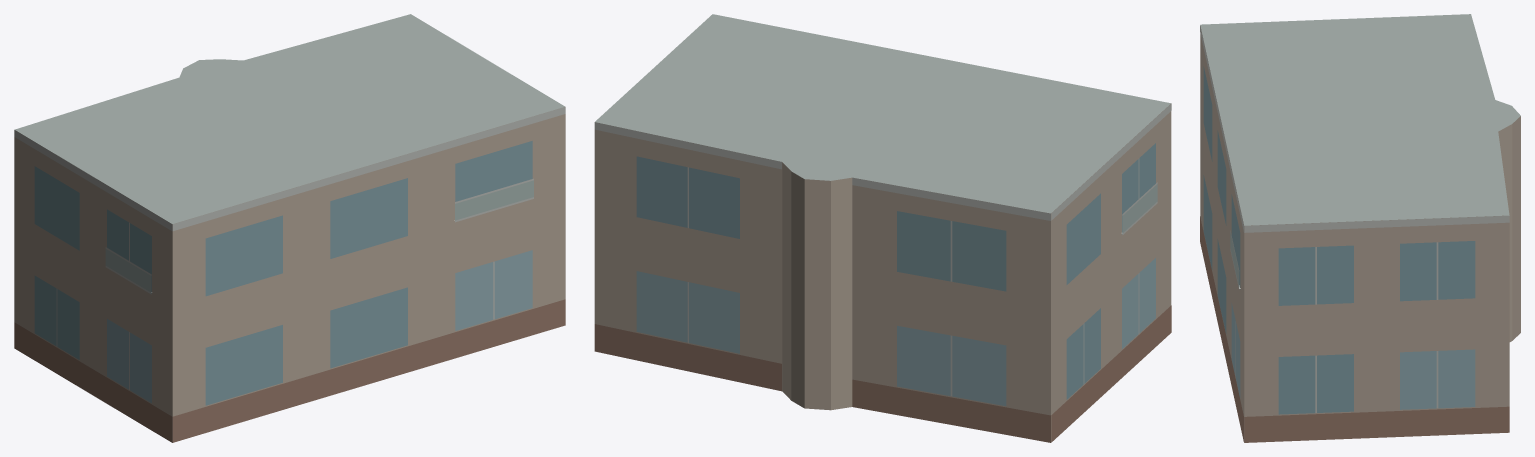
File: survey-upis-32623886.glb
The picture shows the model from 3 angles, left to right: view 1: azimuth 30°, elevation 25°; view 2: azimuth 150°, elevation 25°; view 3: azimuth 270°, elevation 25°; orthographic projection. The views are drawn at different scales.
Visible parts, largest first — view 1: survey-upis-32623886.tmp; view 2: survey-upis-32623886.tmp; view 3: survey-upis-32623886.tmp.
Boxes of the visible parts, left/top/right/bottom form: survey-upis-32623886.tmp: left=14, top=14, right=565, bottom=442; survey-upis-32623886.tmp: left=594, top=14, right=1171, bottom=442; survey-upis-32623886.tmp: left=1200, top=14, right=1520, bottom=442.
Size of the model in its own units: 15.48 by 7.4 by 9.91.
